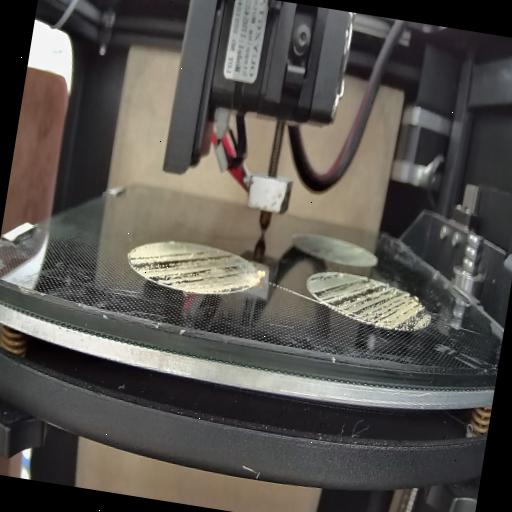under_extrusion: (306, 272, 432, 332), (126, 240, 252, 298)
